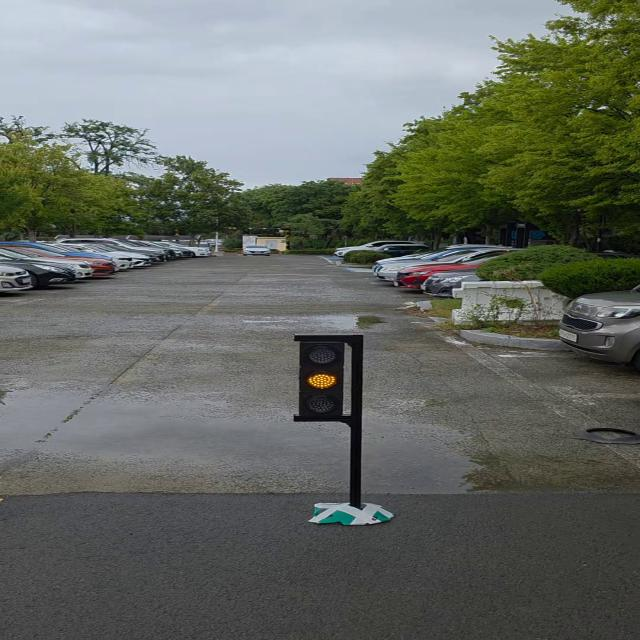yellow: (298, 337, 351, 422)
